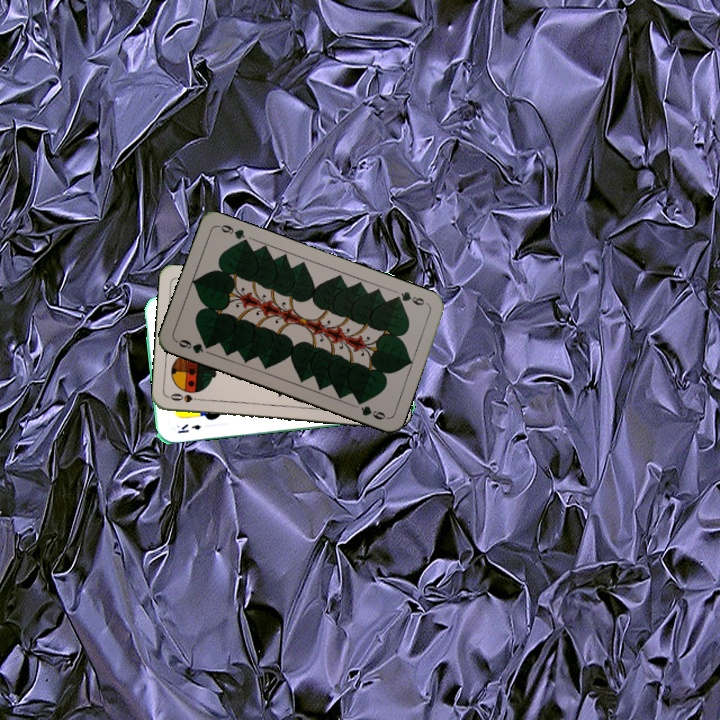EK: (174, 420, 203, 436)
G9: (172, 335, 214, 356), (389, 287, 430, 308)
SO: (166, 389, 207, 405)
